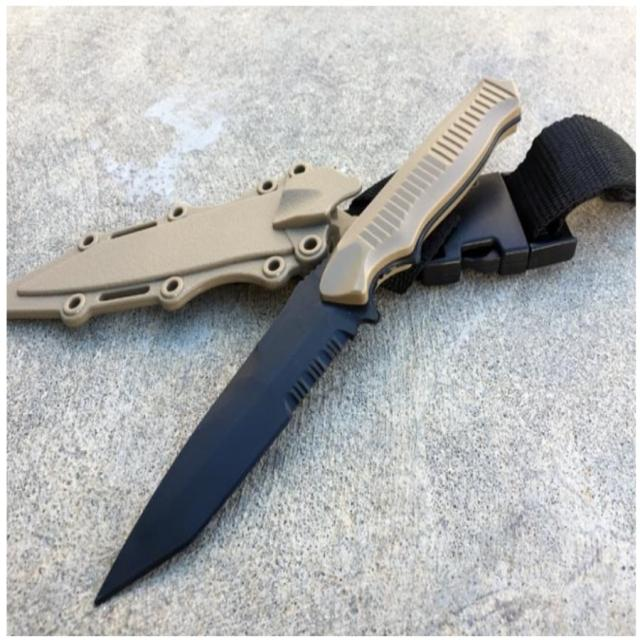knife: (83, 65, 533, 614)
